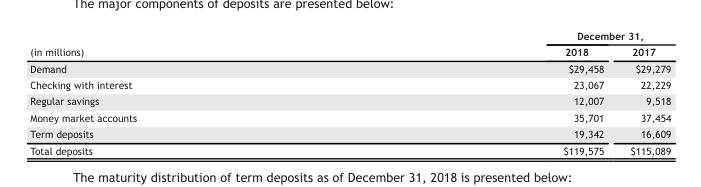table: (29, 29, 670, 156)
table column: (29, 29, 349, 156), (349, 29, 616, 156), (616, 29, 670, 156)
table column header: (29, 29, 670, 59)
table row: (29, 59, 670, 76), (29, 92, 670, 109), (29, 43, 670, 59), (29, 76, 670, 92), (29, 109, 670, 125), (29, 125, 670, 141), (29, 141, 670, 156), (29, 29, 670, 43)
table spanning cell: (29, 29, 349, 59), (349, 29, 670, 43)
